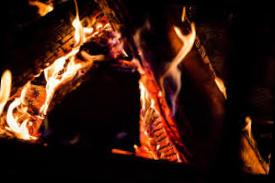Fire: (0, 1, 105, 144), (146, 1, 200, 111)
